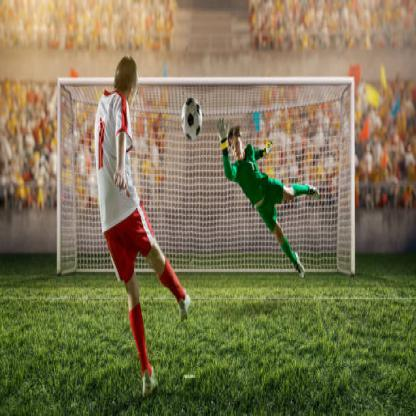penalty kick: (92, 51, 308, 338)
